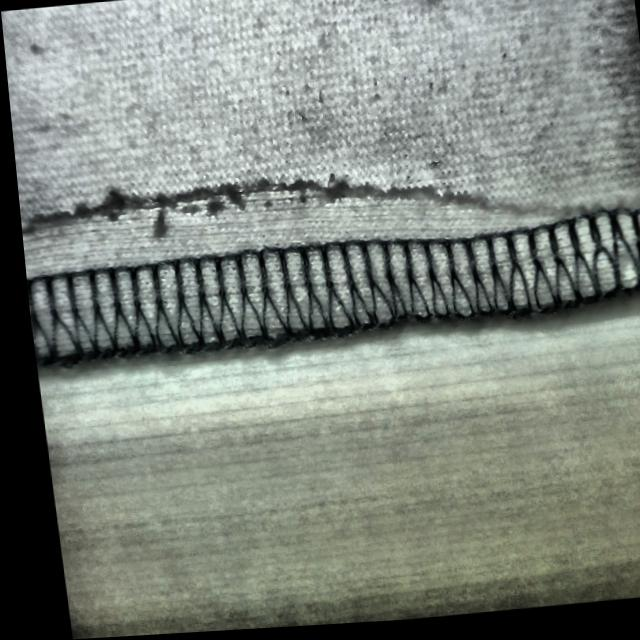seam: (12, 129, 577, 368)
